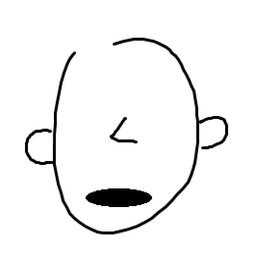ear: (190, 114, 239, 164), (20, 121, 62, 170)
open_mouth: (81, 174, 156, 212)
pointy_nose: (110, 107, 147, 150)
